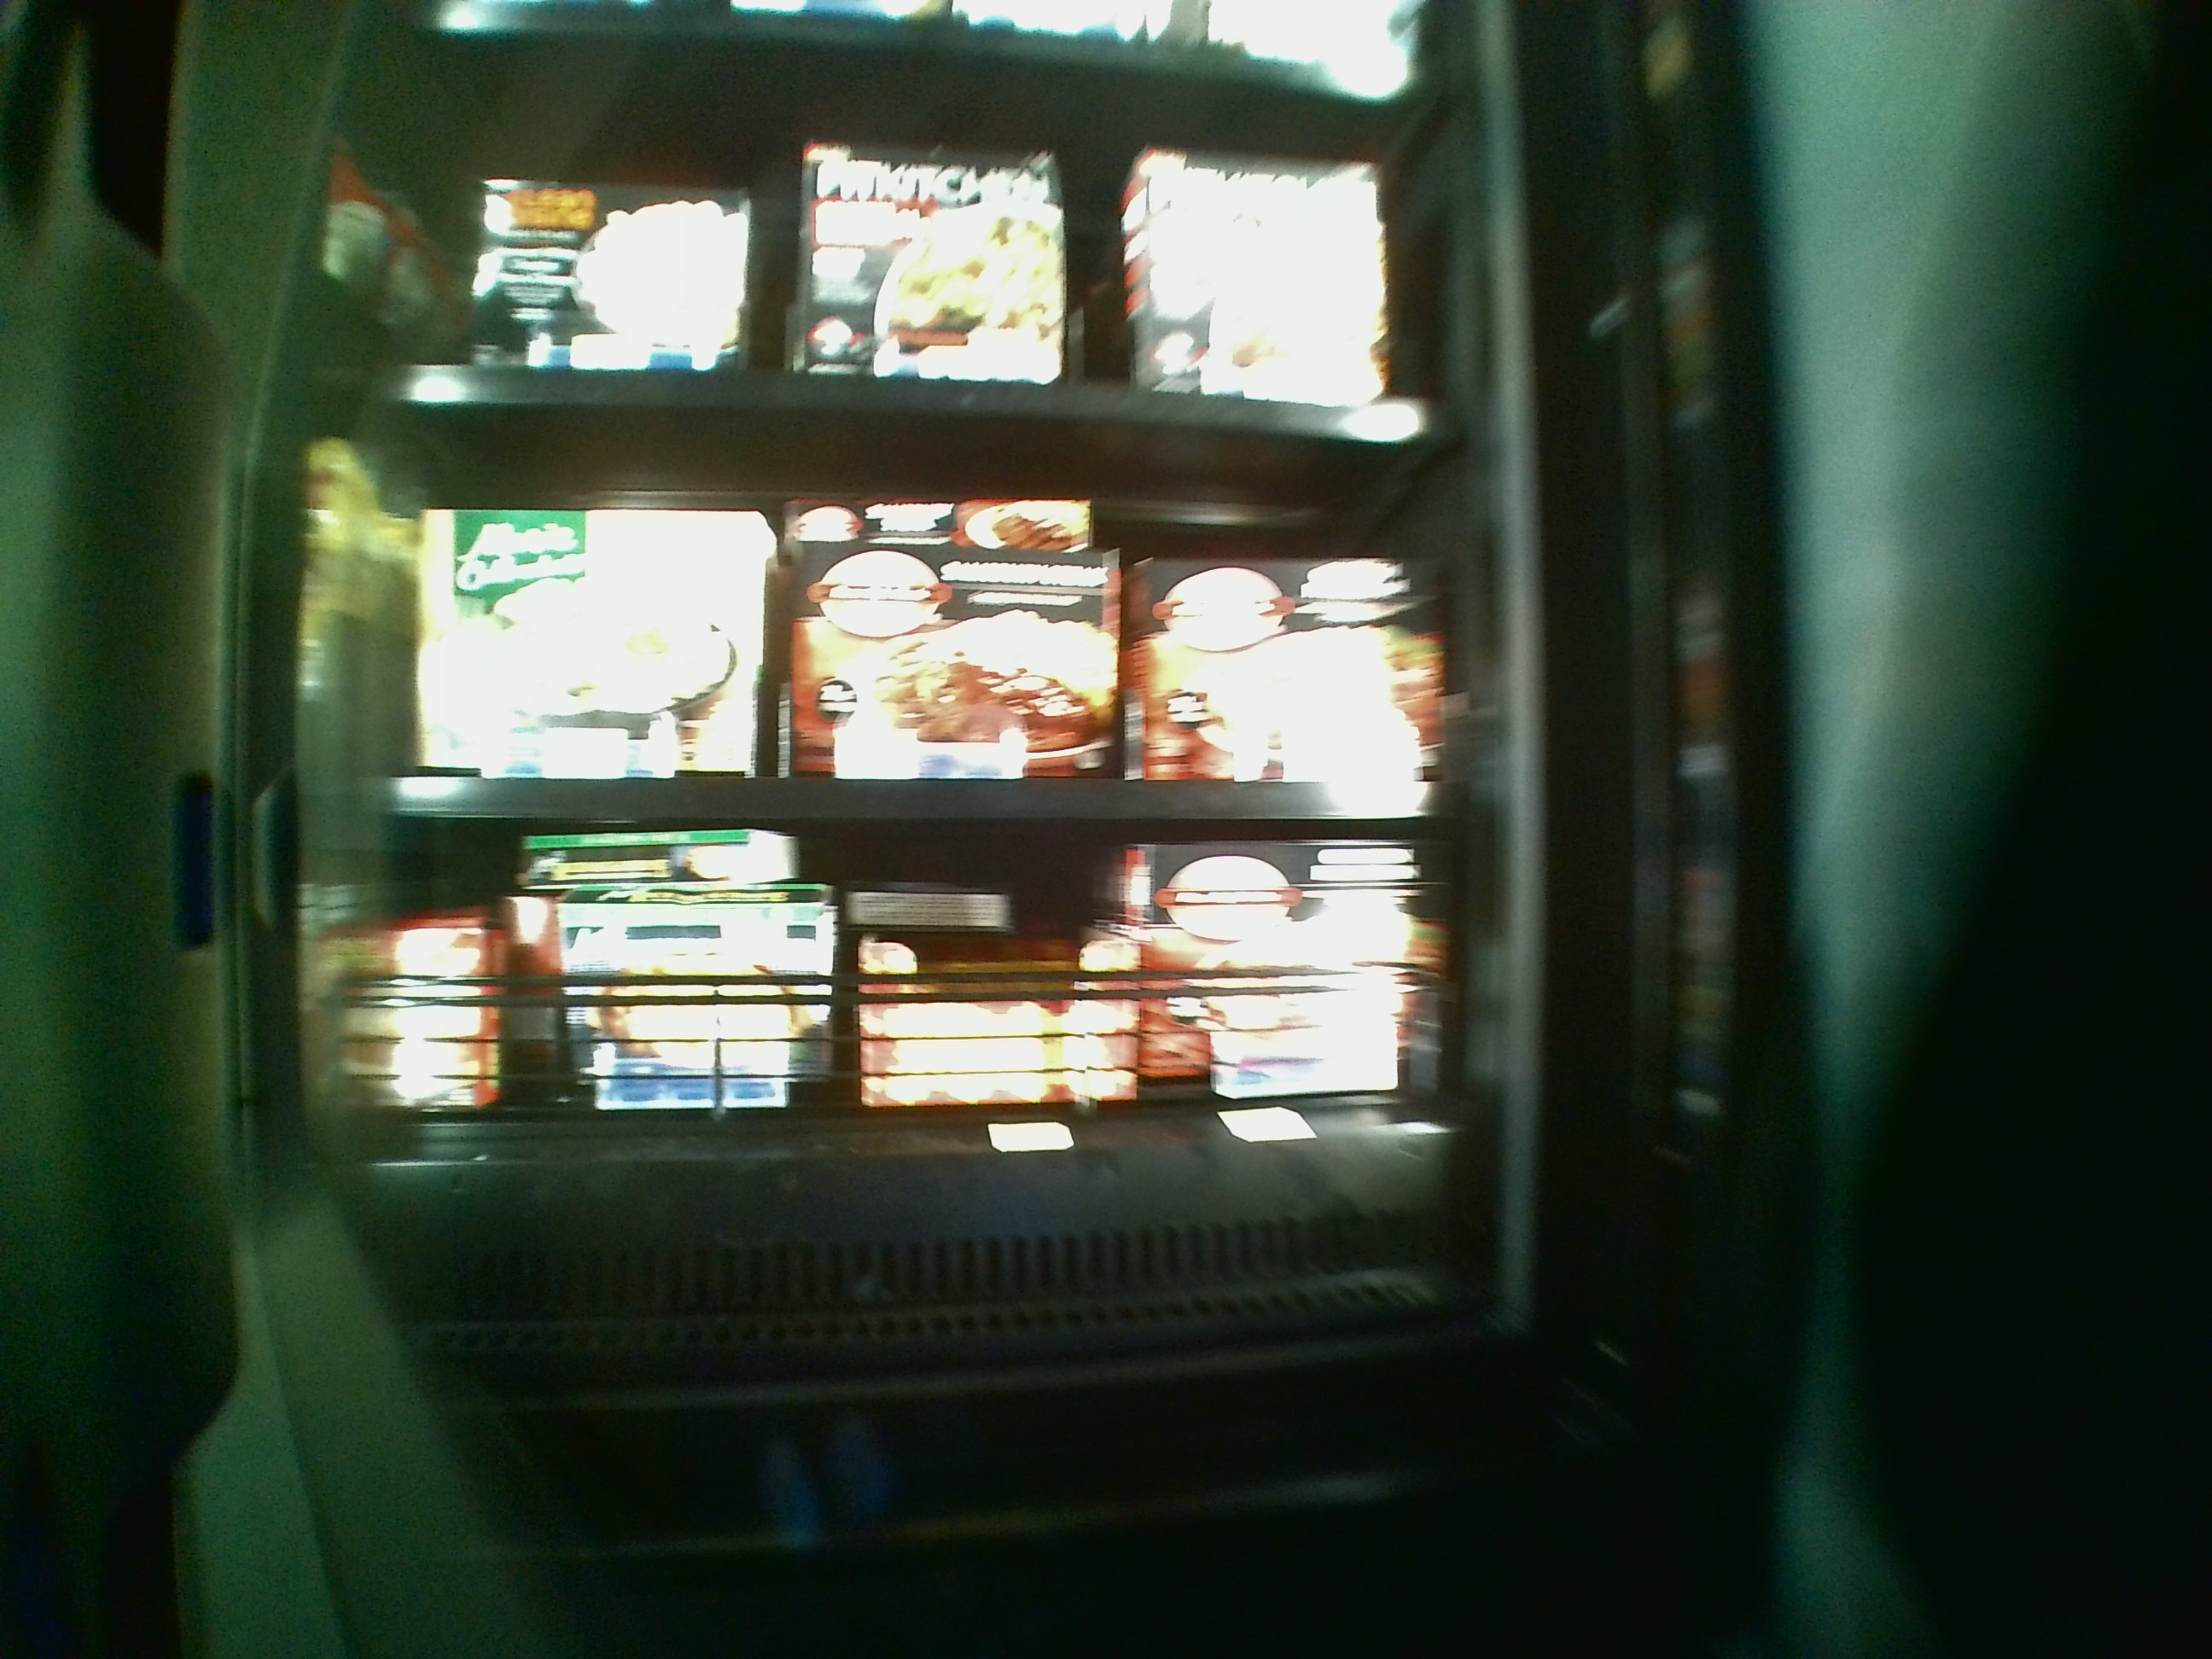shelf: (366, 403, 1453, 819), (369, 828, 1456, 1202)
